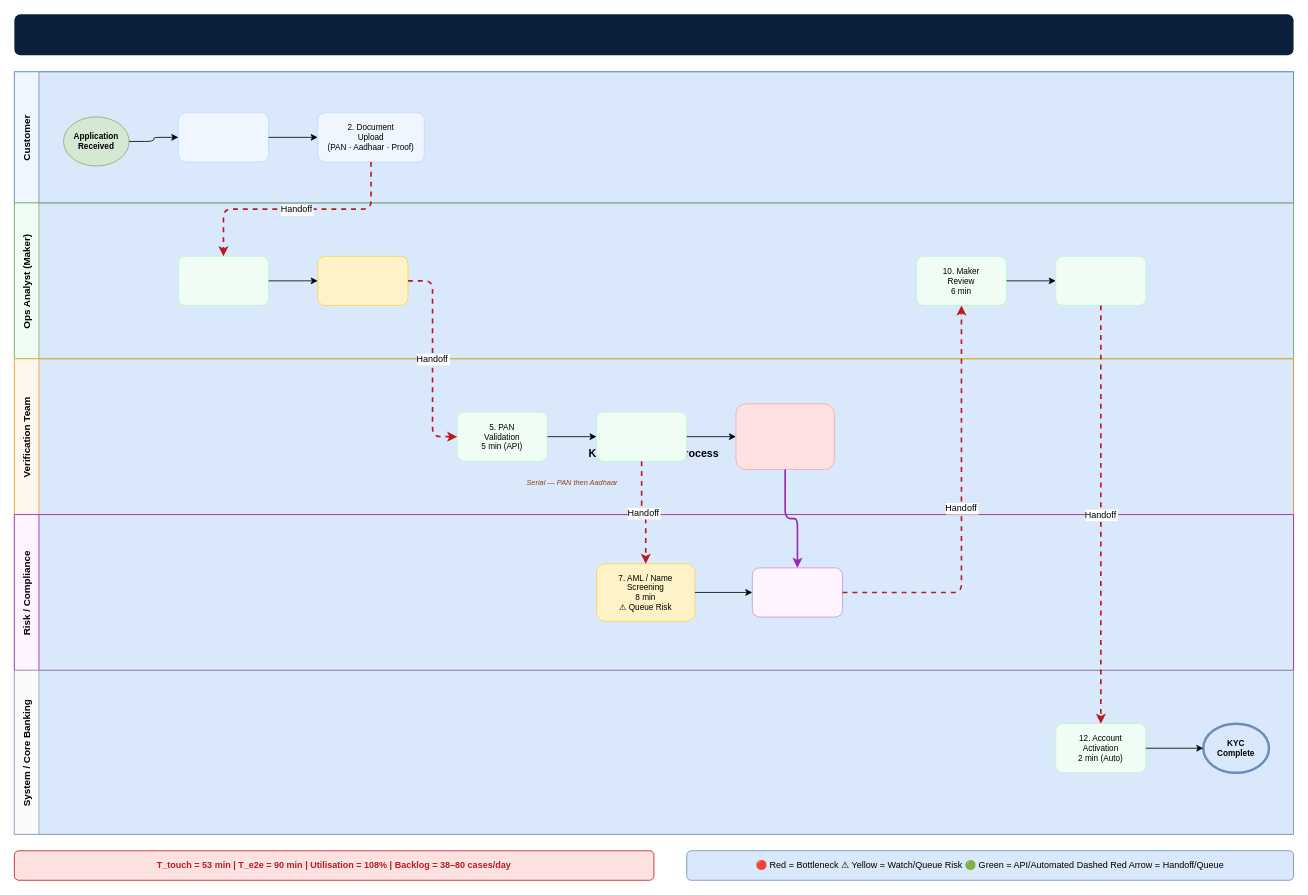
Image size: 1308x895. Some labels were removed from this diagram. The shapes that lost their labels are listed below. From the top down, each one's centre as x and y in pixels, then its label:
At (653,34): "KYC Retail Onboarding — AS-IS Process (Current State)".
At (223,137): "1. Submit Application".
At (223,280): "3. Doc Quality Check 4 min".
At (362,280): "4. Data Entry 6 min ⚠ Manual".
At (1100,280): "11. Checker Approval 5 min".
At (641,436): "6. Aadhaar Validation 5 min (API)".
At (784,436): "8. Address Verification 10 min 🔴 BOTTLENECK".
At (797,592): "9. Risk Categorisation 4 min".
